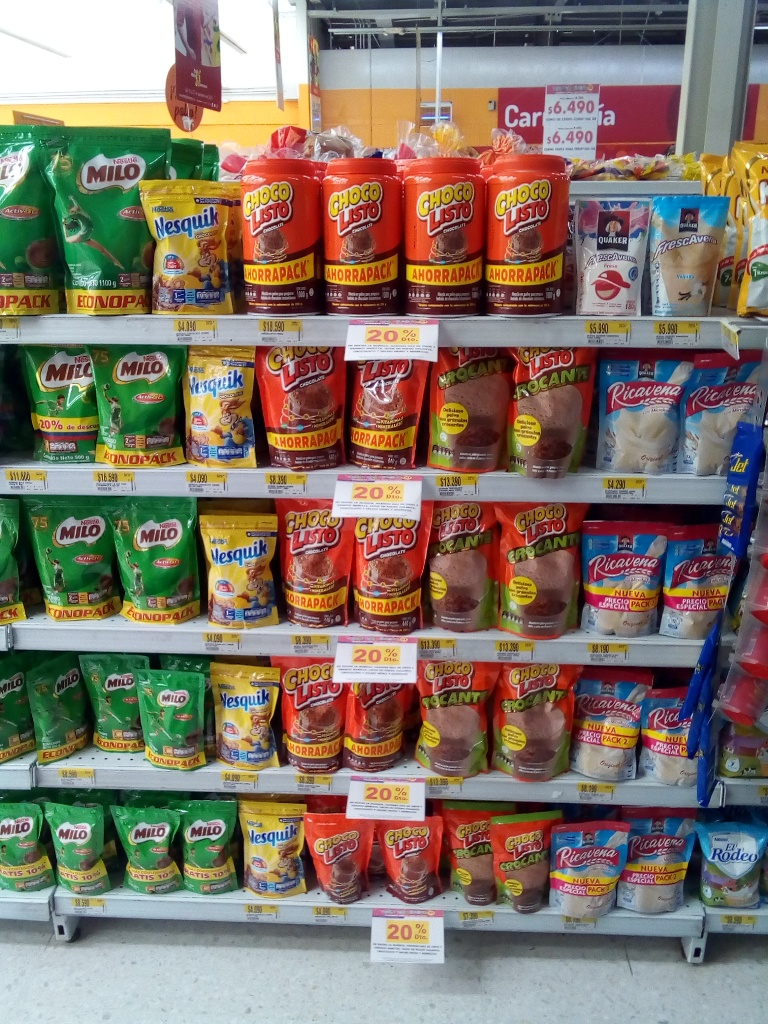COL0170102DYP50000: (504, 340, 597, 478)
COL0170103DYP44000: (248, 341, 352, 466)
COL0170103TRR00100: (238, 153, 325, 318)
COL0170203DYP50000: (16, 342, 100, 466)
COL0170303DYP20000: (143, 176, 241, 316)
